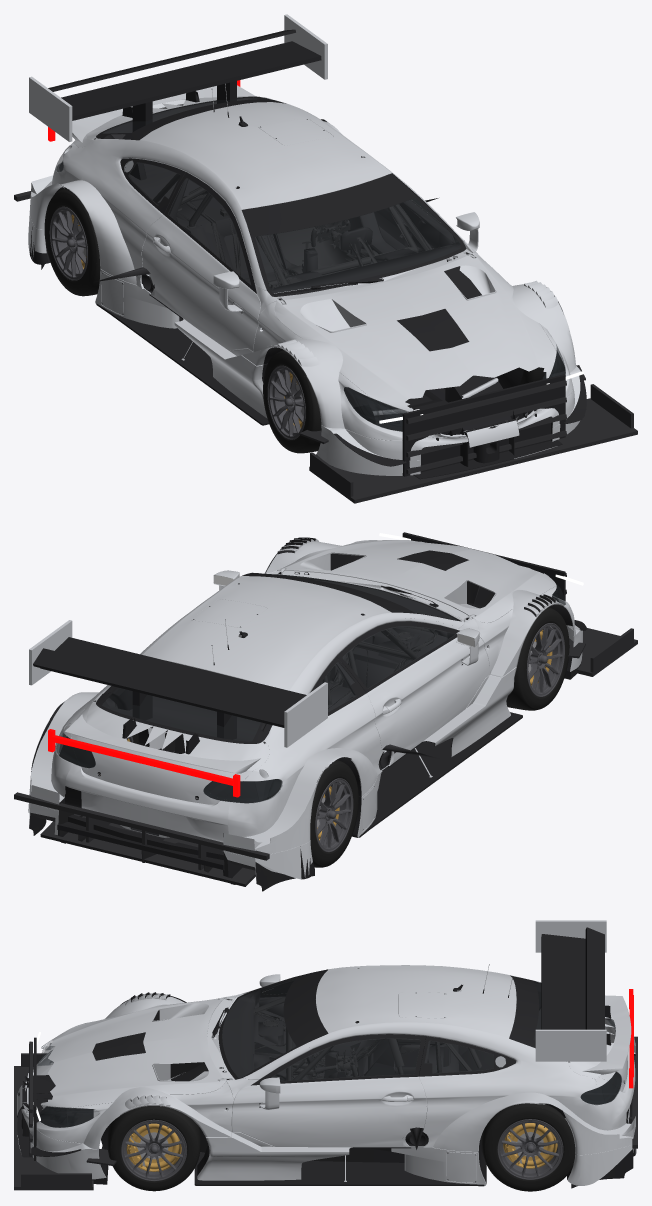
Rendered from harrier_gt_hero.glb.
The picture shows the model from 3 angles, top to bottom: view 1: azimuth 30°, elevation 25°; view 2: azimuth 150°, elevation 25°; view 3: azimuth 270°, elevation 25°; orthographic projection. The views are drawn at different scales.
Parts seen in each view (by area): view 1: body, glass__35, interior_Object_24, drf_amg_dtm_2018_0, wing_plane, grille_back, trim_misc, splitter, interior_Object_23, interior_Object_19, interior_Object_27, wheel_RR_tyre.001 (+11 smaller); view 2: body, glass__35, interior_Object_24, wing_flap, trim_misc, wing_plane, drf_amg_dtm_2018_0, diffuser_panel, rear_lip, taillight_housing, wing_plate_R, wheel_RR_tyre.001 (+14 smaller); view 3: body, glass__35, interior_Object_24, drf_amg_dtm_2018_0, wing_plane, wheel_RL_tyre.001, wing_plate_L, wheel_FL_tyre.001, trim_misc, wing_flap, splitter, interior_Object_23 (+15 smaller).
Boxes of the visible parts, x1,y1,x2,y2 form: body: (28,85,586,479); glass__35: (55,97,565,431); interior_Object_24: (94,97,461,296); drf_amg_dtm_2018_0: (96,96,466,296); wing_plane: (61,41,321,120); grille_back: (402,374,565,476); trim_misc: (46,82,559,431); splitter: (309,398,637,503); interior_Object_23: (153,173,433,287); interior_Object_19: (177,193,430,288); interior_Object_27: (277,222,378,274); wheel_RR_tyre.001: (44,193,95,293); body: (28,537,586,891); glass__35: (55,574,565,835); interior_Object_24: (102,572,458,758); wing_flap: (33,648,288,727); trim_misc: (92,537,572,837); wing_plane: (40,637,306,727); drf_amg_dtm_2018_0: (96,573,461,743); diffuser_panel: (40,814,255,886); rear_lip: (14,792,269,860); taillight_housing: (57,733,280,802); wing_plate_R: (284,682,327,747); wheel_RR_tyre.001: (310,764,358,865); body: (17,965,636,1188); glass__35: (37,978,622,1127); interior_Object_24: (222,969,541,1149); drf_amg_dtm_2018_0: (218,970,540,1085); wing_plane: (541,934,585,1029); wheel_RL_tyre.001: (485,1107,575,1190); wing_plate_L: (535,1029,606,1061); wheel_FL_tyre.001: (111,1110,197,1190); trim_misc: (100,964,625,1186); wing_flap: (585,927,604,1029); splitter: (14,1066,93,1190); interior_Object_23: (253,996,481,1080).
Bounding box in the file's own units: 2.48 × 1.36 × 4.39.
